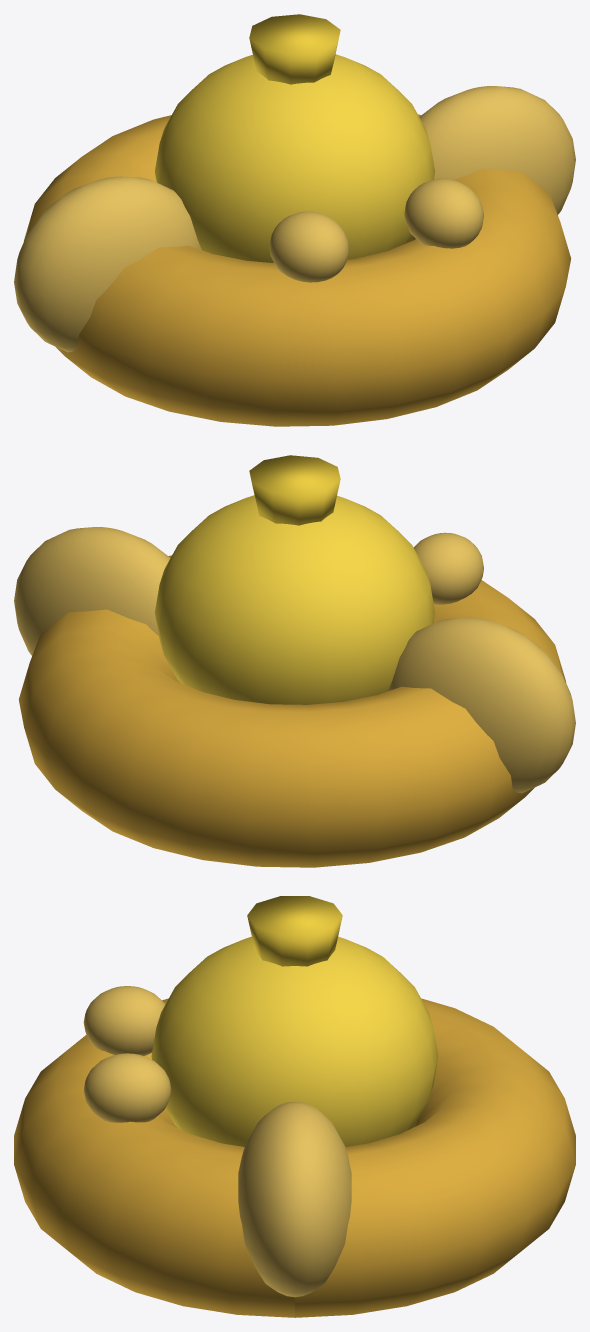
File: b_photon_cannon.glb
The picture shows the model from 3 angles, top to bottom: view 1: azimuth 30°, elevation 25°; view 2: azimuth 150°, elevation 25°; view 3: azimuth 270°, elevation 25°; orthographic projection. The views are drawn at different scales.
Visible parts, largest first — view 1: pc_ring.001, pc_dome.001, pc_pod-1.001, pc_pod1.001, pc_cap.001, pc_egg0.001, pc_egg1.001; view 2: pc_ring.001, pc_dome.001, pc_pod-1.001, pc_pod1.001, pc_cap.001, pc_egg0.001; view 3: pc_ring.001, pc_dome.001, pc_pod1.001, pc_cap.001, pc_egg1.001, pc_egg0.001.
Boxes of the visible parts, box(x1,y1,x2,y2) form: pc_ring.001: box(23, 114, 571, 426); pc_dome.001: box(155, 54, 434, 262); pc_pod-1.001: box(14, 176, 201, 352); pc_pod1.001: box(419, 86, 575, 214); pc_cap.001: box(249, 14, 340, 84); pc_egg0.001: box(269, 211, 349, 282); pc_egg1.001: box(404, 178, 483, 248); pc_ring.001: box(18, 555, 566, 867); pc_dome.001: box(155, 495, 434, 704); pc_pod-1.001: box(388, 617, 575, 793); pc_pod1.001: box(14, 527, 170, 655); pc_cap.001: box(249, 455, 340, 525); pc_egg0.001: box(413, 532, 483, 604); pc_ring.001: box(14, 998, 575, 1317); pc_dome.001: box(151, 936, 438, 1146); pc_pod1.001: box(238, 1101, 351, 1297); pc_cap.001: box(247, 896, 342, 966); pc_egg1.001: box(83, 1053, 171, 1122); pc_egg0.001: box(83, 986, 165, 1055).
Size of the model in its own units: 1.64 by 0.86 by 1.41.
